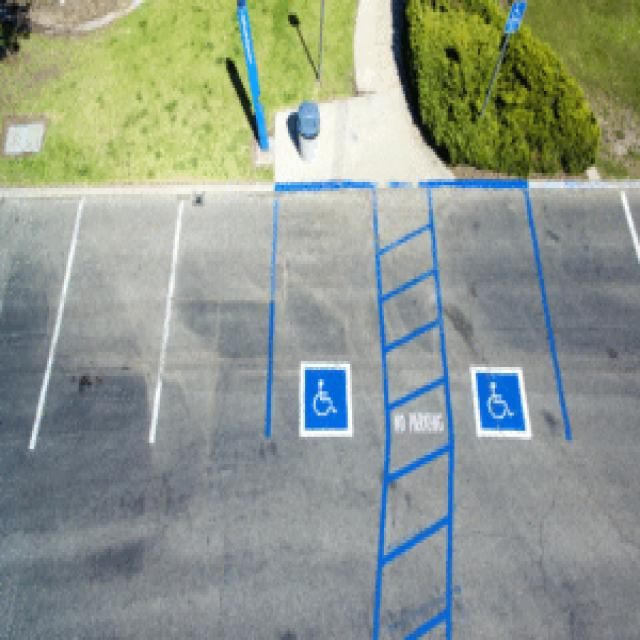car-handicap-placard: (476, 369, 530, 436), (302, 364, 350, 434), (511, 0, 526, 18)
